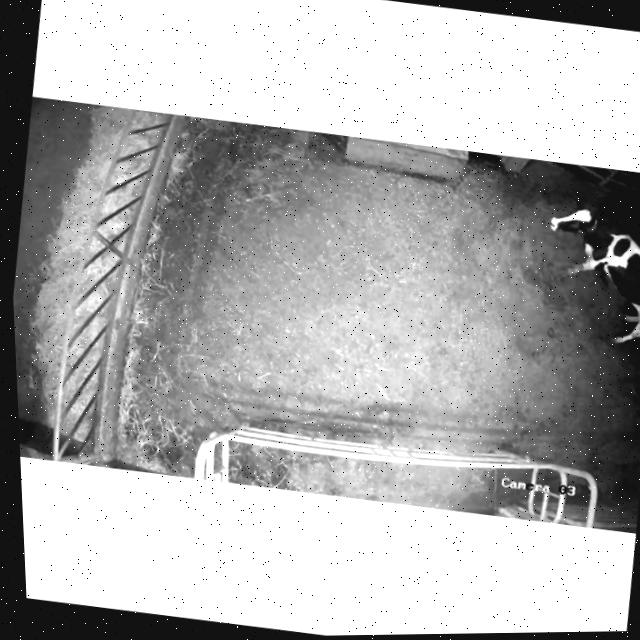stand: (523, 190, 640, 360)
